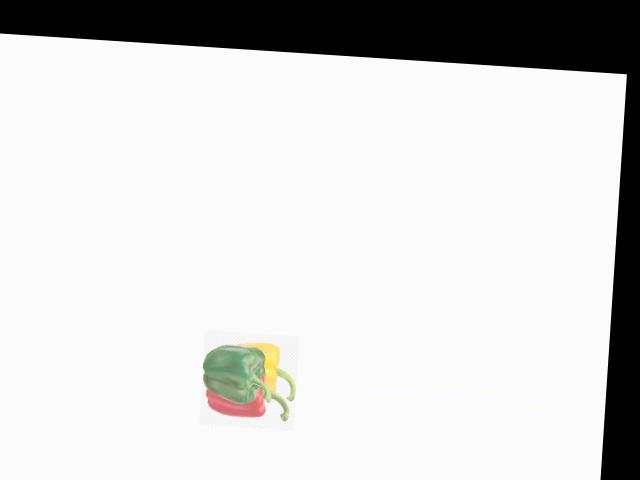bell_pepper: (201, 371, 293, 431)
